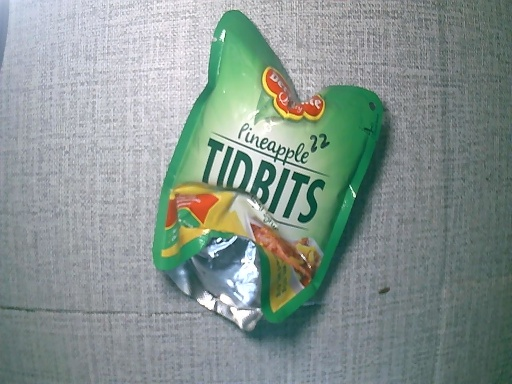plastic: (148, 17, 381, 331)
